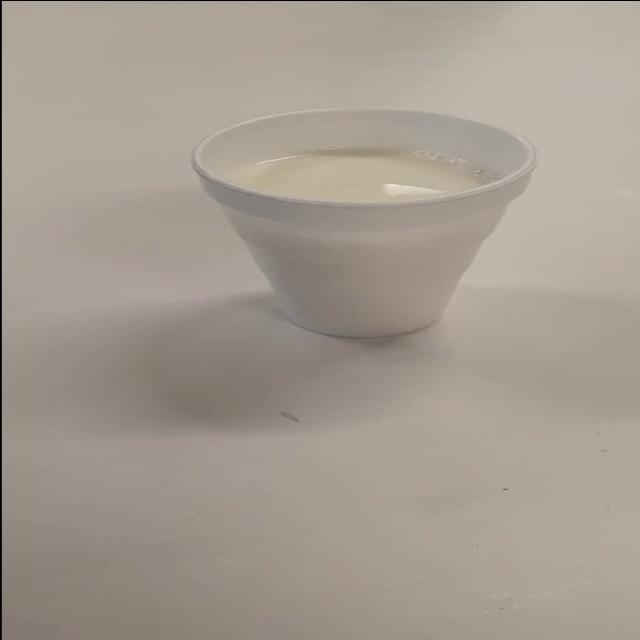Milk: (180, 93, 589, 359)
